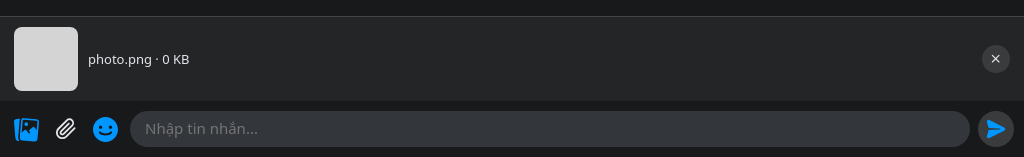
Test case: removing a selected photo restores the normal composer
This screenshot has width=1024, height=157.
Earlier steps of the test are not shown.
Click the button named "Bỏ ảnh đã chọn" at (996, 59), box [982,45,1010,73]
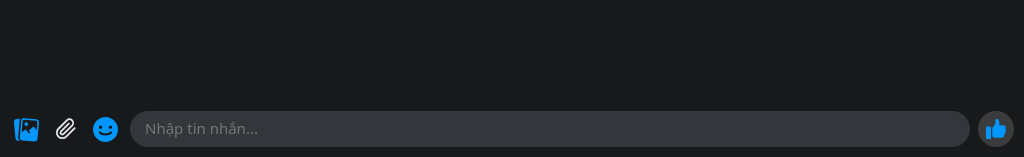
Expected: the button named "Gửi lượt thích" is shown, [978,111,1014,147]
